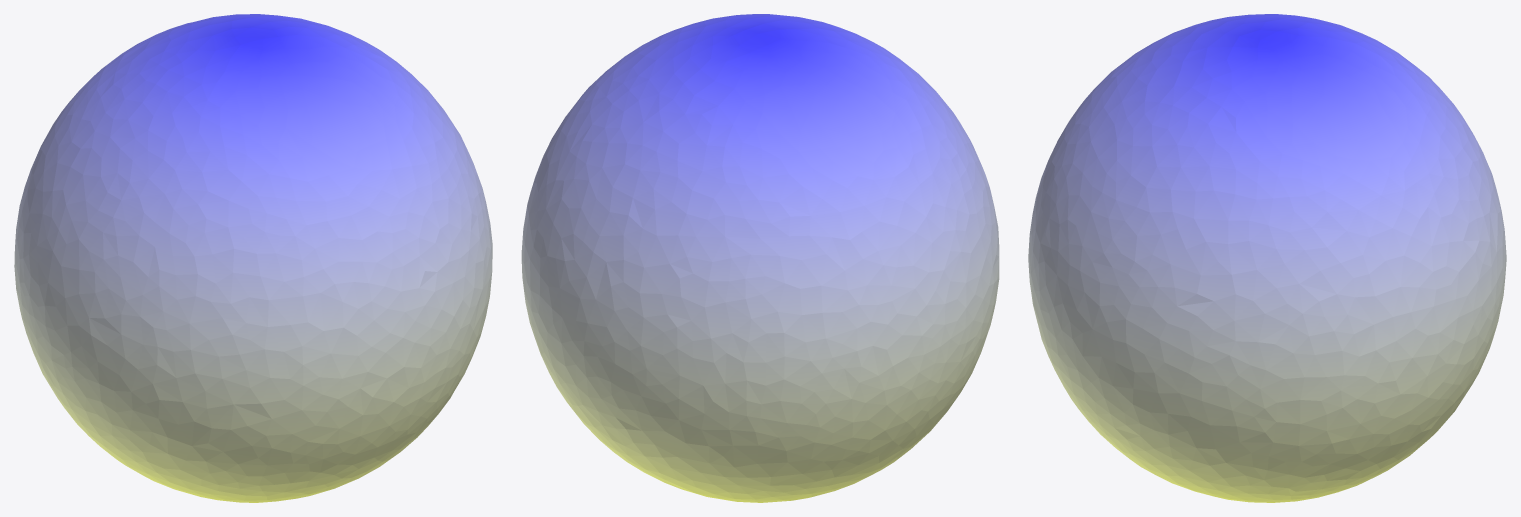
Rendered from 142_cyb_laser_gradient_fish_scales_2994_2026_10_03_dad82d.glb.
The picture shows the model from 3 angles, left to right: view 1: azimuth 30°, elevation 25°; view 2: azimuth 150°, elevation 25°; view 3: azimuth 270°, elevation 25°; orthographic projection.
Visible parts, largest first — view 1: geometry_0; view 2: geometry_0; view 3: geometry_0.
Part boxes in pixels (box(x1,y1,x2,y2)): geometry_0: box(14, 14, 492, 502); geometry_0: box(521, 14, 999, 502); geometry_0: box(1028, 14, 1506, 502).
Size of the model in its own units: 0.983 by 1 by 0.9834.
